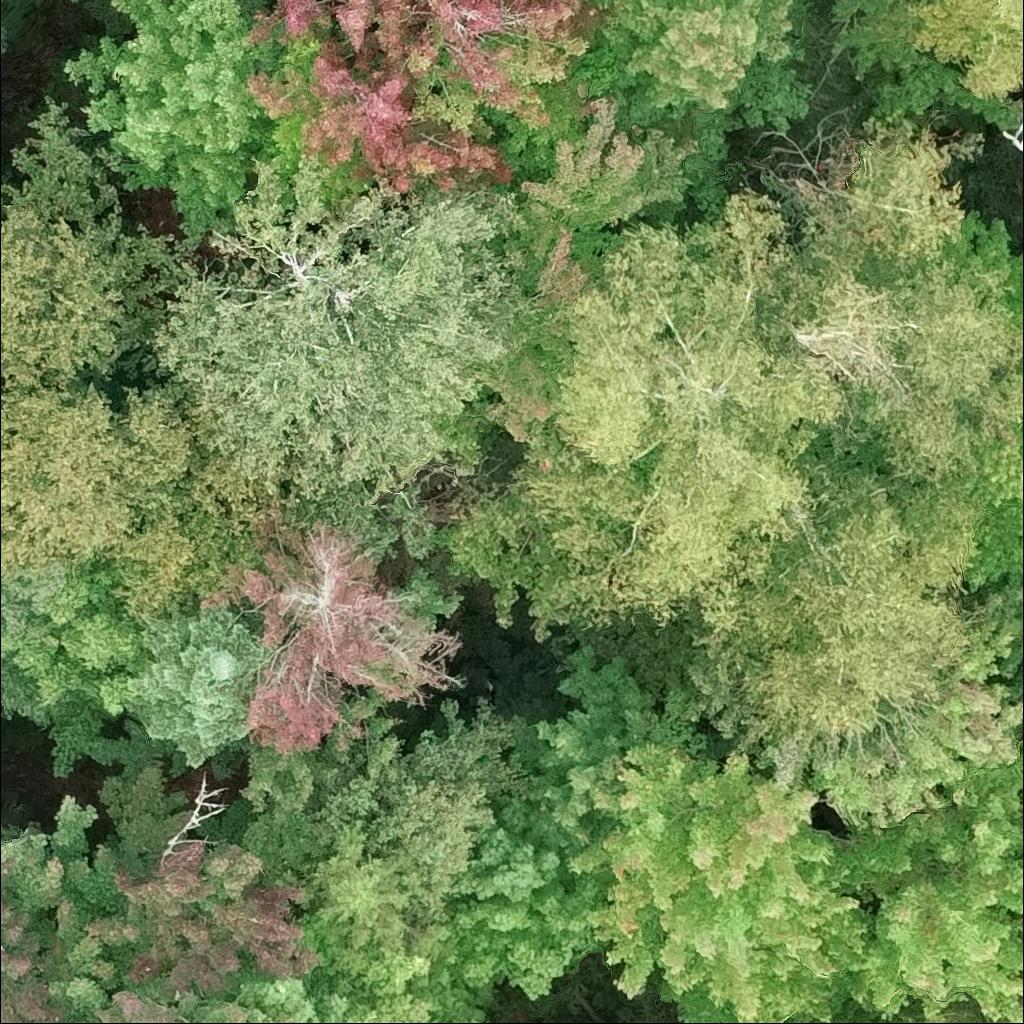crown: (430, 182, 851, 645), (147, 158, 532, 501), (418, 642, 709, 1002), (759, 113, 1023, 487), (687, 447, 986, 756), (205, 497, 470, 827), (587, 741, 891, 1023), (0, 761, 319, 1023), (467, 94, 699, 448), (242, 0, 607, 206), (483, 0, 819, 223), (236, 702, 532, 933), (0, 375, 265, 618), (61, 0, 280, 258), (0, 93, 183, 396), (841, 728, 1023, 1023), (804, 619, 1023, 835), (0, 556, 143, 775), (236, 911, 492, 1023), (126, 604, 278, 770), (310, 818, 426, 956), (905, 0, 1023, 104), (959, 420, 1023, 595), (944, 209, 1023, 325), (946, 1005, 1000, 1023), (239, 0, 274, 19), (1019, 359, 1023, 375), (921, 1023, 921, 1023)
